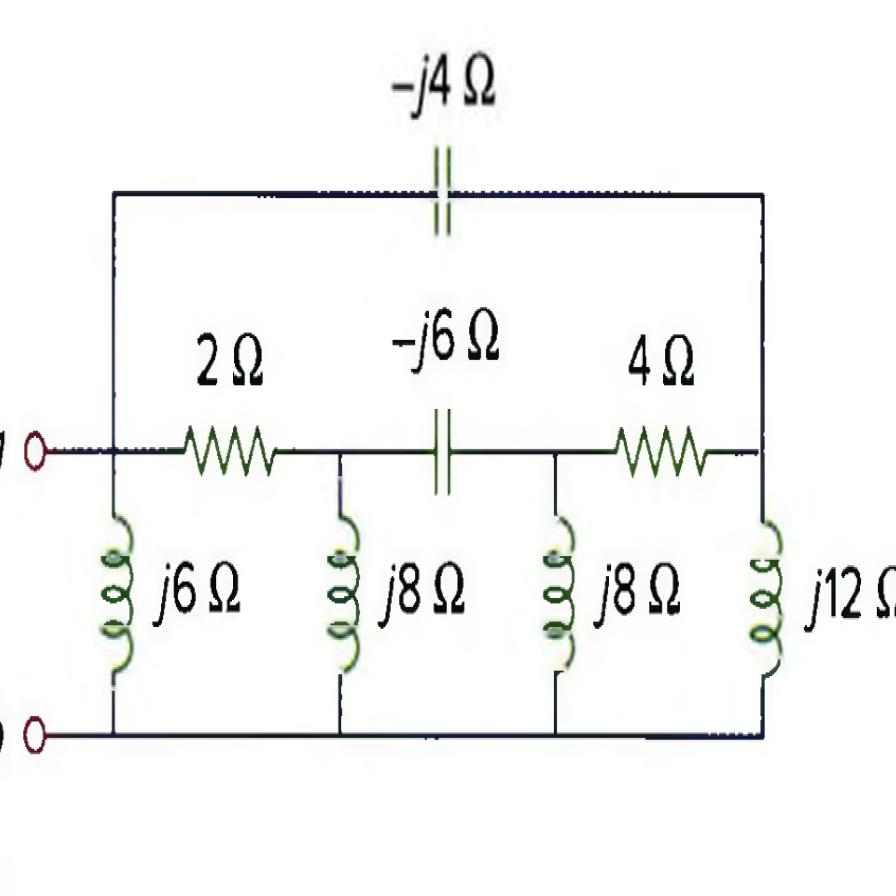C1: (416, 391, 469, 517), (419, 131, 465, 259)
L2: (319, 488, 373, 690), (740, 498, 798, 686), (528, 500, 585, 690), (94, 499, 142, 685)
